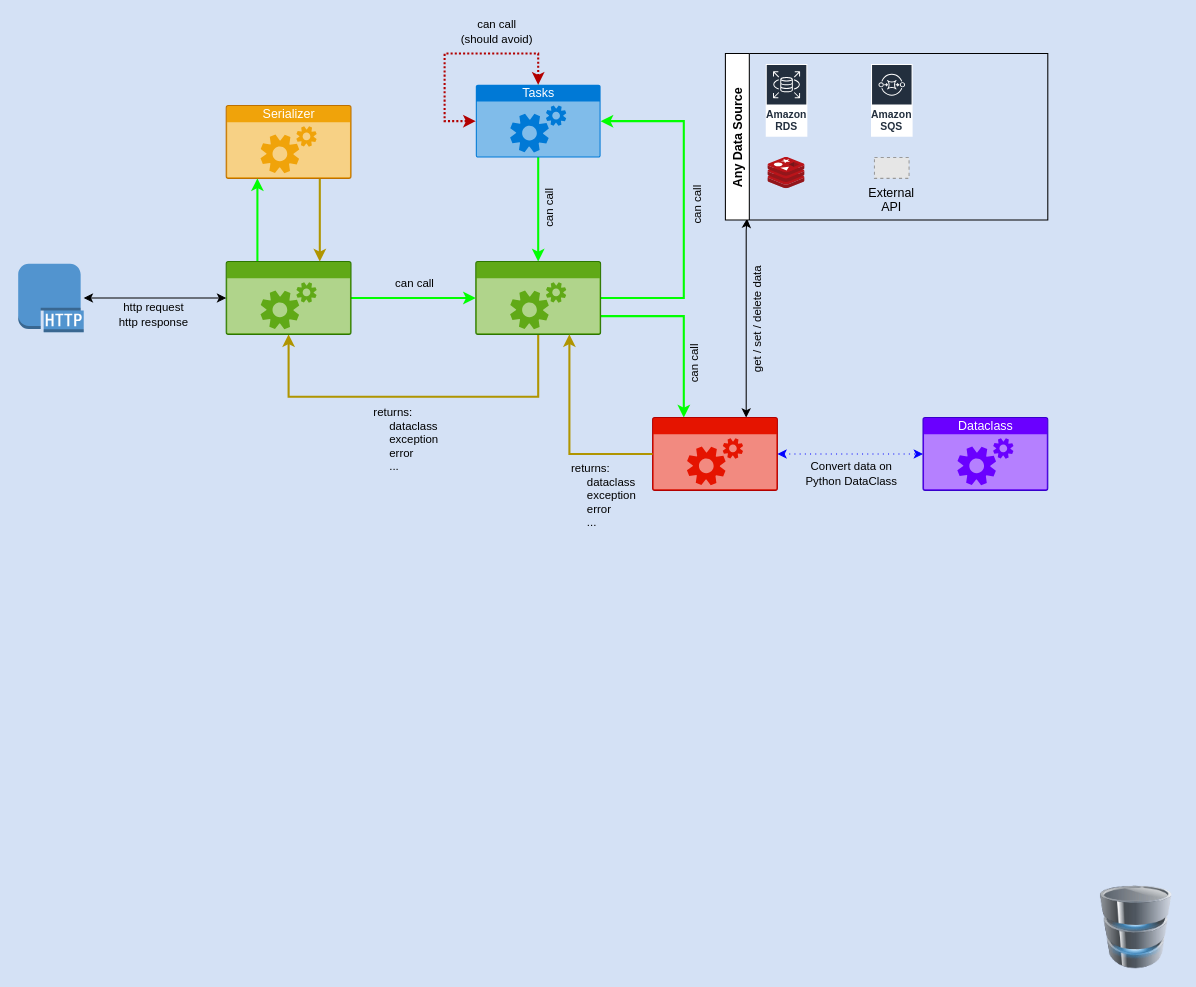
Image size: 1196x987. Some labels were removed from this diagram. Grey dashed boxes stand in for pictures. Here are the shapes that lost their labels. From the top down, the centre of each, then its label:
At point (786, 172): "Redis".
At point (288, 297): "Views".
At point (538, 297): "Services".
At point (714, 453): "Providers".
